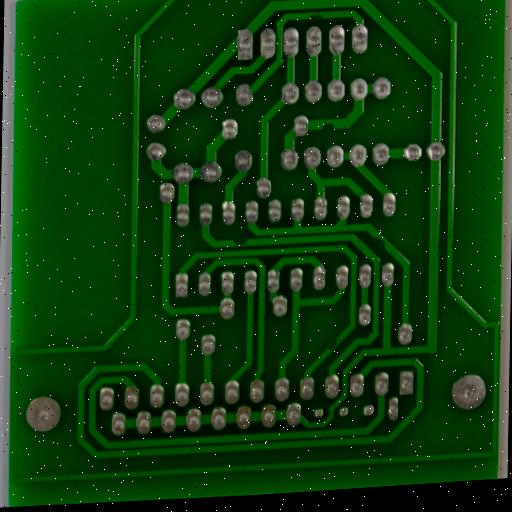mouse_bite: (322, 336, 344, 354), (319, 116, 339, 134), (372, 232, 392, 250), (306, 8, 328, 23), (230, 236, 252, 248)
